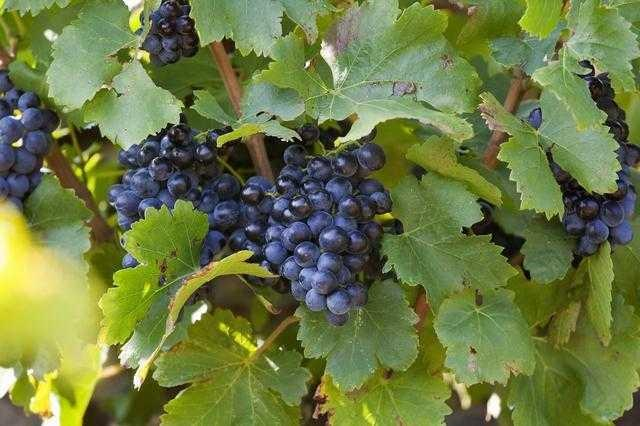Grape Ripe: (502, 55, 640, 248), (256, 140, 401, 318), (110, 121, 275, 272), (0, 74, 56, 193), (130, 0, 204, 74)
